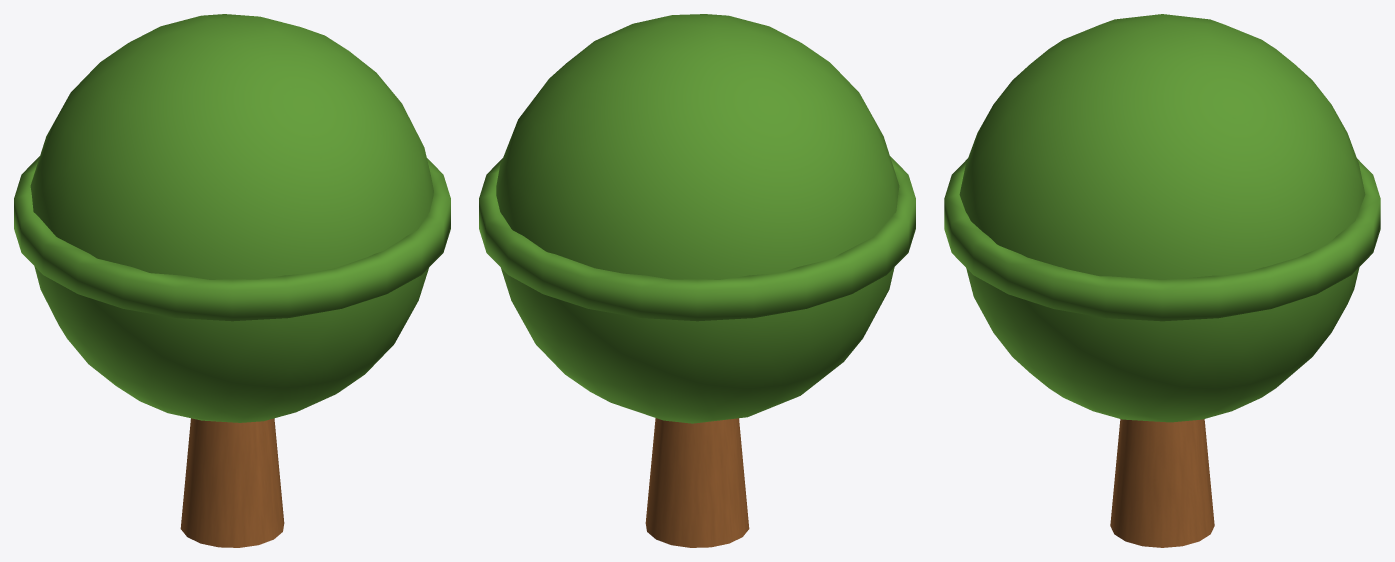
File: tree-lollipop.fbx
3 renders of one model, left to right at view 1: azimuth 30°, elevation 25°; view 2: azimuth 150°, elevation 25°; view 3: azimuth 270°, elevation 25°, orthographic.
Parts seen in each view (by area): view 1: tree-lollipop; view 2: tree-lollipop; view 3: tree-lollipop.
Boxes of the visible parts, x1,y1,x2,y2 form: tree-lollipop: [14, 14, 450, 547]; tree-lollipop: [479, 14, 915, 547]; tree-lollipop: [944, 14, 1380, 547].
Size of the model in its own units: 2090 by 2600 by 2090.
Materials: 1 (1 with a texture image).
